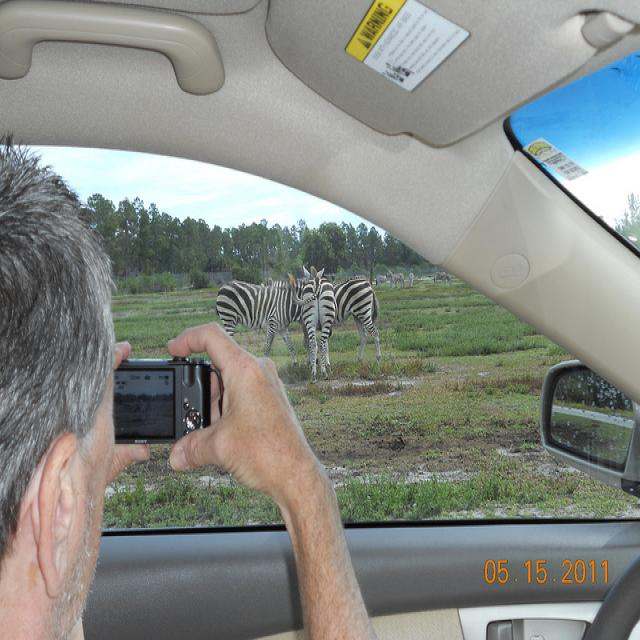Vehicle: (1, 1, 639, 624)
